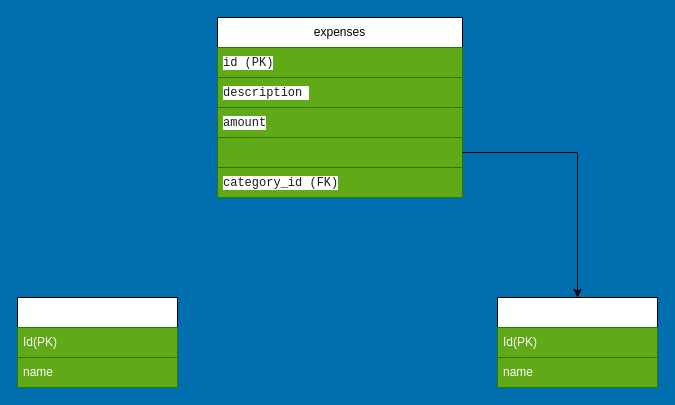
Some shapes in this 675 by 405 pixel diagram are drawn without their labels. Each missing label, with the box of its shape:
categories: (496, 296, 658, 388)
user_id (FK): (216, 136, 462, 168)
Users: (16, 296, 178, 388)
